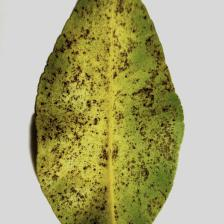canker: (63, 55, 164, 196)
